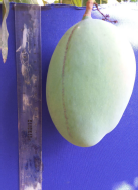Mango-area-afectada: (62, 24, 77, 77)
Mango-sano: (46, 20, 135, 146)
